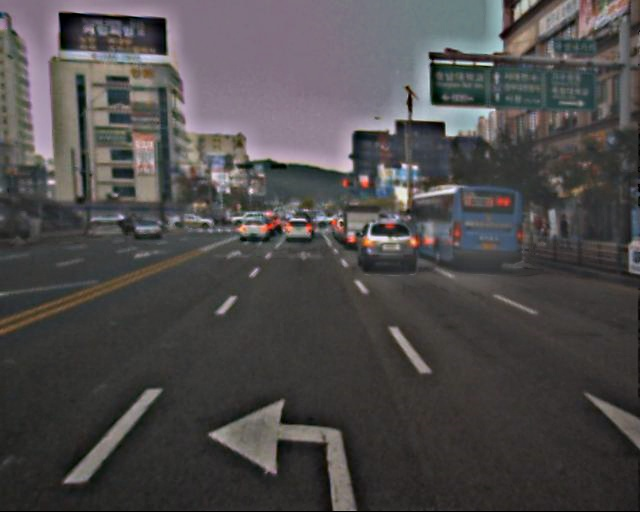person: (555, 213, 573, 255), (531, 213, 549, 243)
